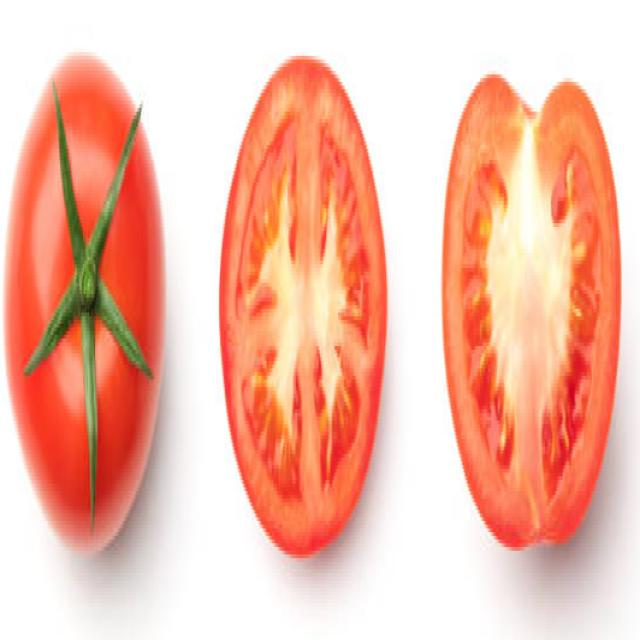Tomato: (437, 24, 621, 580), (2, 35, 174, 548), (216, 59, 391, 560)
